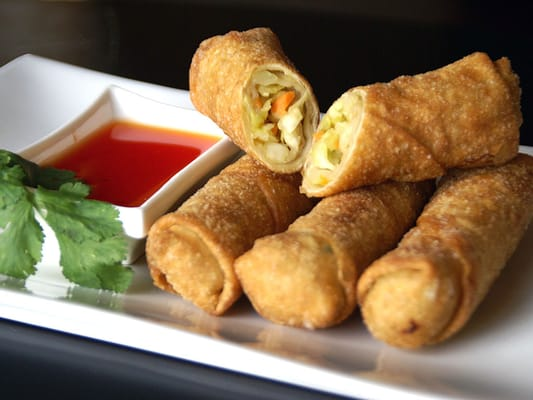soup: (188, 27, 321, 175)
